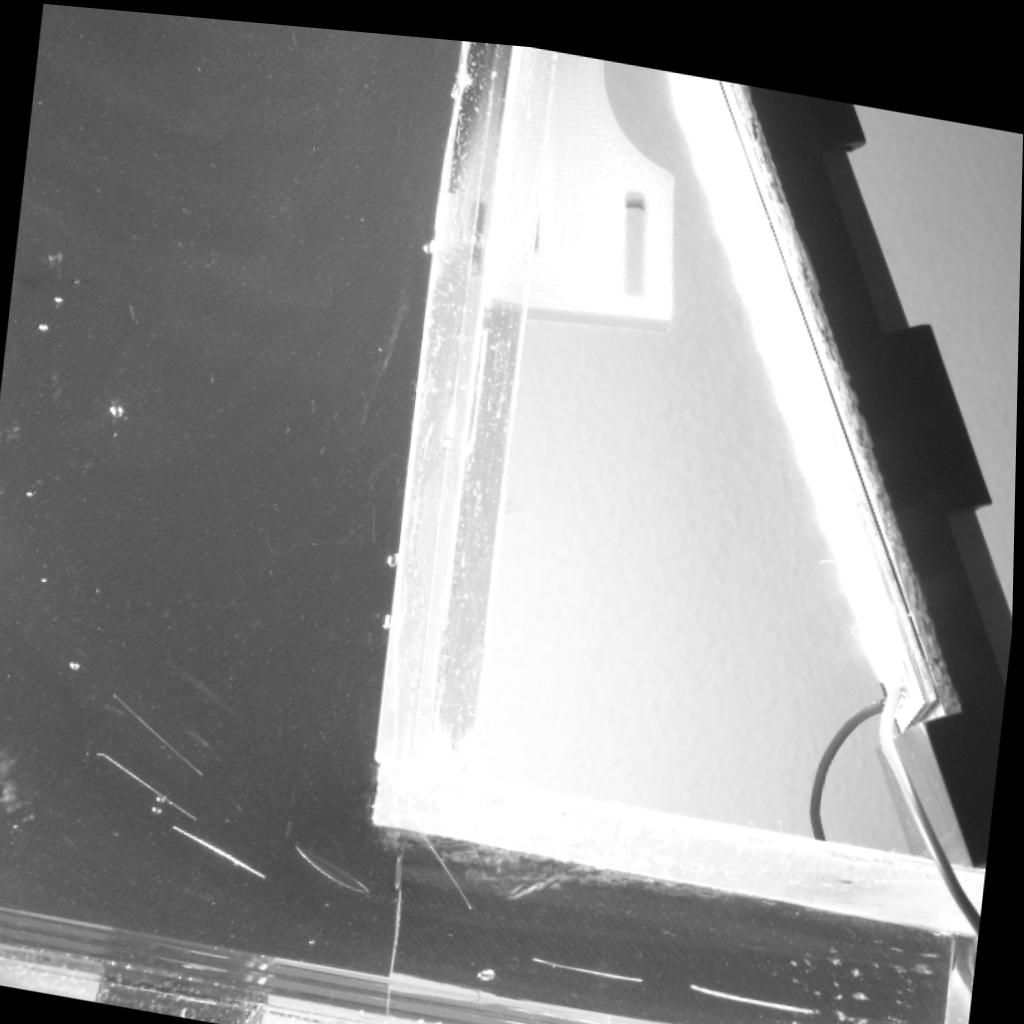Fiber: (115, 689, 204, 772), (99, 748, 201, 818), (420, 820, 482, 902), (682, 967, 827, 1002), (176, 820, 272, 872), (535, 947, 651, 969)
